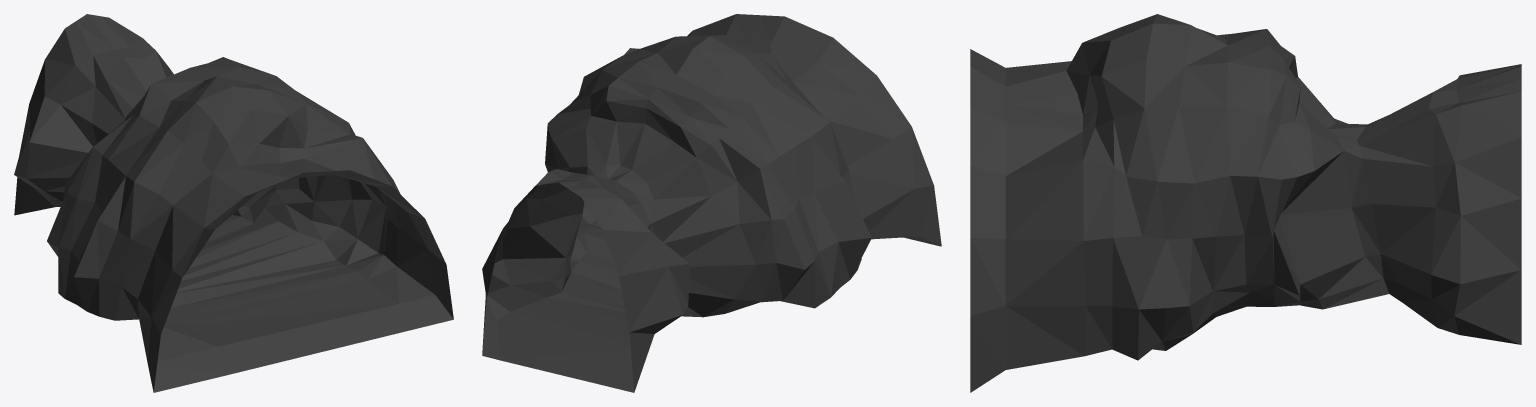
The model's file is Cave_Door_A_LOD_2.fbx.
3 renders of one model, left to right at view 1: azimuth 30°, elevation 25°; view 2: azimuth 150°, elevation 25°; view 3: azimuth 270°, elevation 25°, orthographic. The views are drawn at different scales.
Visible parts, largest first — view 1: pCylinder517; view 2: pCylinder517; view 3: pCylinder517.
Boxes of the visible parts, x1,y1,x2,y2 form: pCylinder517: (14, 14, 453, 392); pCylinder517: (482, 14, 941, 392); pCylinder517: (970, 14, 1521, 392).
Size of the model in its own units: 8.43 by 5.72 by 10.32.
